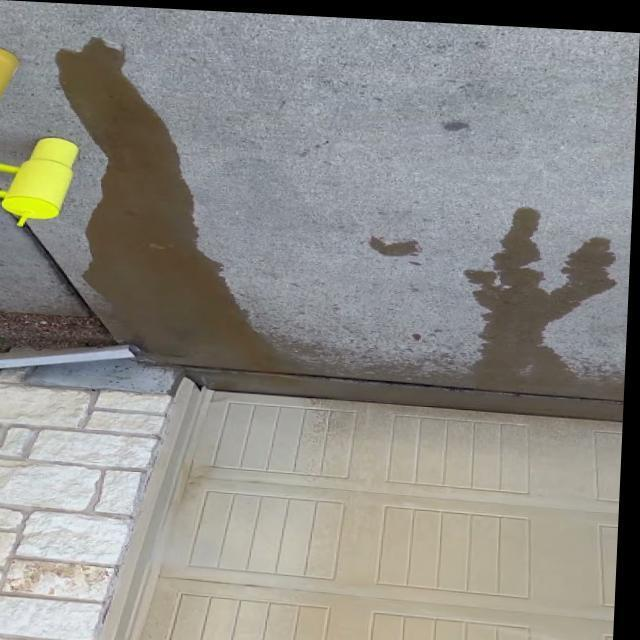water accumulation: (55, 37, 628, 420)
